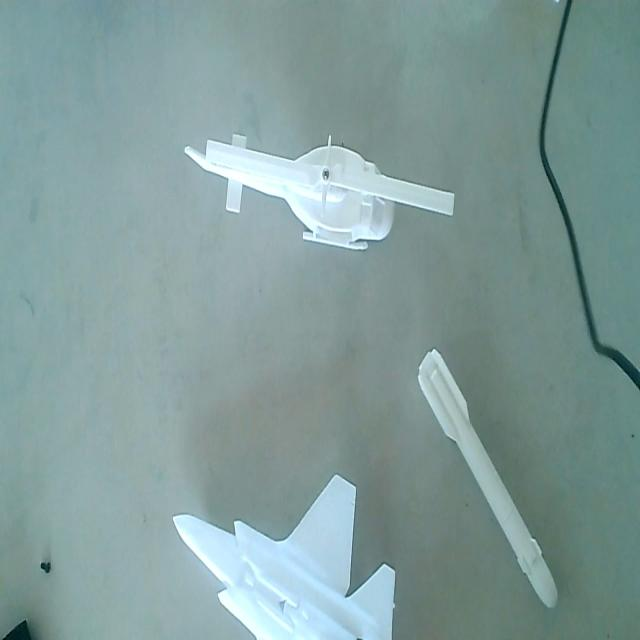Helicopter: (177, 118, 457, 262)
Jet: (162, 464, 404, 640)
Rocket: (418, 346, 561, 612)
